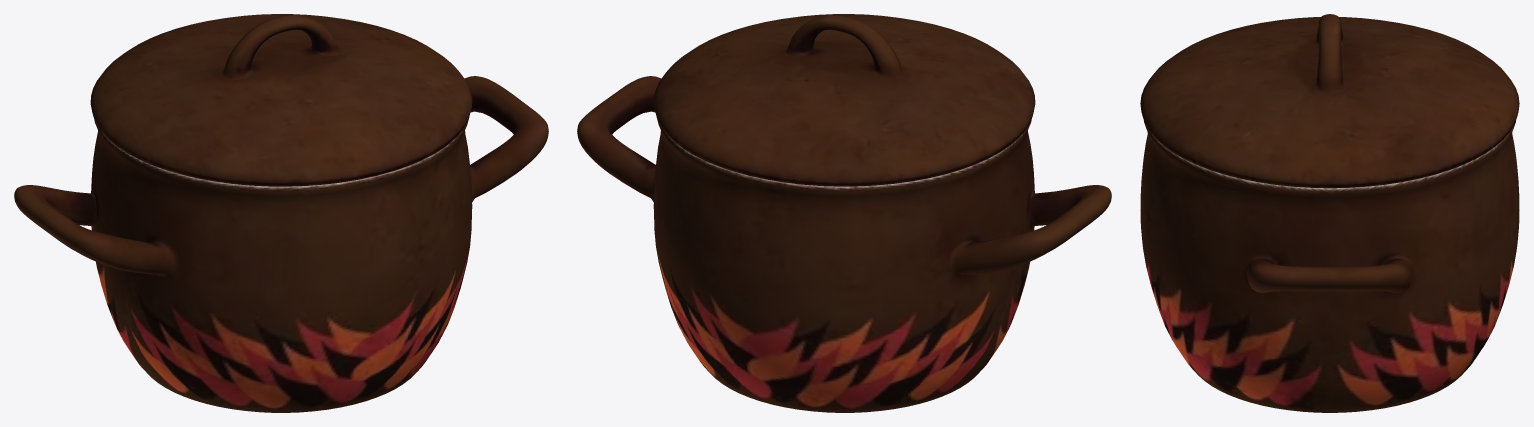
The model's file is pot_enamel_01.glb.
3 views of the same model, side by side, from view 1: azimuth 30°, elevation 25°; view 2: azimuth 150°, elevation 25°; view 3: azimuth 270°, elevation 25° (orthographic).
Visible parts, largest first — view 1: pot_enamel_01_base, pot_enamel_01_lid; view 2: pot_enamel_01_base, pot_enamel_01_lid; view 3: pot_enamel_01_base, pot_enamel_01_lid.
Boxes of the visible parts, x1=… form: pot_enamel_01_base: x1=14, y1=76, x2=548, y2=412; pot_enamel_01_lid: x1=90, y1=14, x2=472, y2=186; pot_enamel_01_base: x1=577, y1=76, x2=1111, y2=412; pot_enamel_01_lid: x1=653, y1=14, x2=1035, y2=186; pot_enamel_01_base: x1=1140, y1=121, x2=1519, y2=412; pot_enamel_01_lid: x1=1140, y1=14, x2=1519, y2=188.
Size of the model in its own units: 0.2629 by 0.1783 by 0.1805.
1 material, 1 textured.
